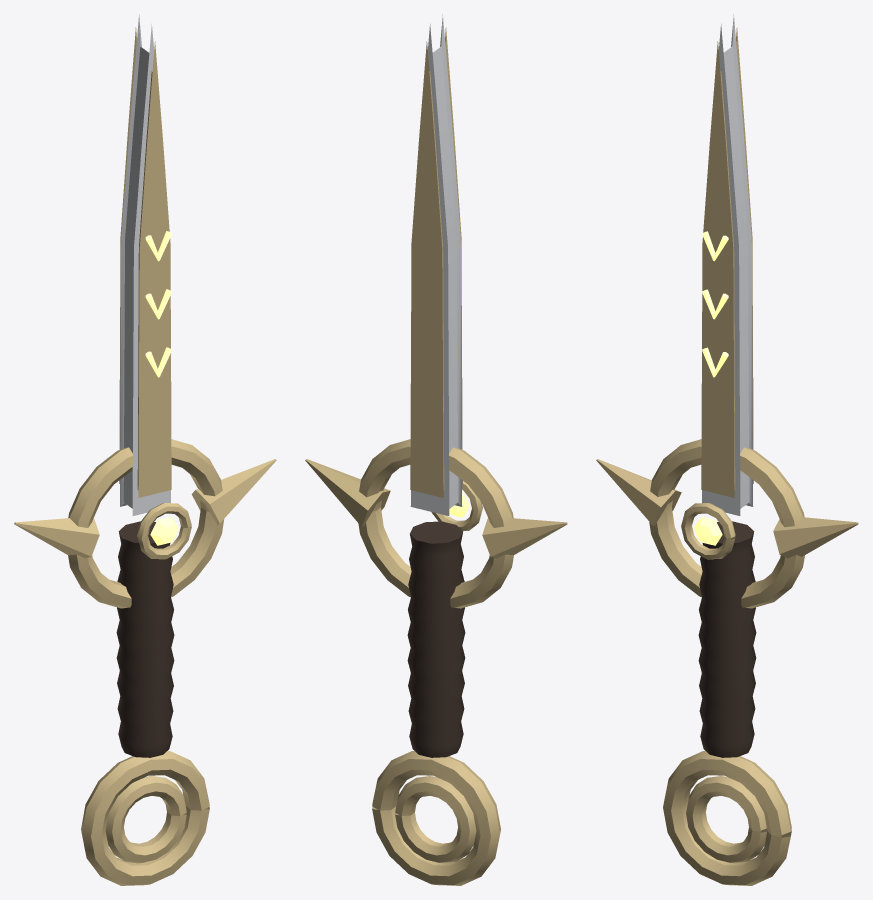
The model's file is artisan_star_compass_dagger.glb.
3 renders of one model, left to right at view 1: azimuth 30°, elevation 25°; view 2: azimuth 150°, elevation 25°; view 3: azimuth 330°, elevation 25°, orthographic.
Parts seen in each view (by area): view 1: artisan_star_compass_dagger; view 2: artisan_star_compass_dagger; view 3: artisan_star_compass_dagger.
Boxes of the visible parts, box(x1,y1,x2,y2) form: artisan_star_compass_dagger: box(14, 14, 276, 885); artisan_star_compass_dagger: box(305, 14, 567, 885); artisan_star_compass_dagger: box(596, 14, 858, 885).
Bounding box in the file's own units: 0.2138 × 0.6759 × 0.0539.
